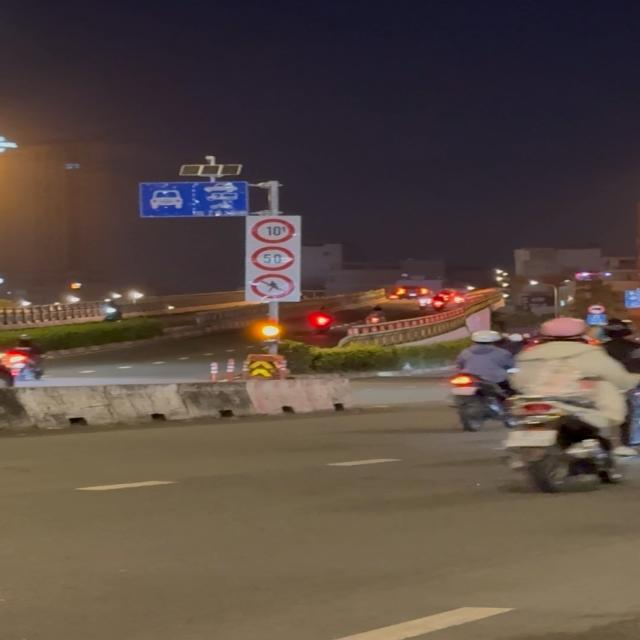Bien bao cam nguoi di bo: (252, 272, 296, 299)
Bien bao toc do toi da cho phep: (249, 246, 296, 272)
